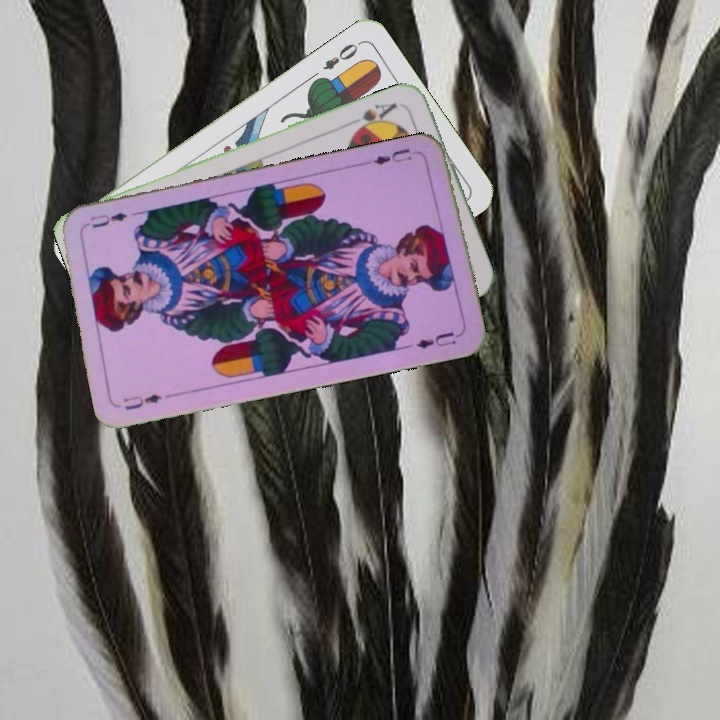EO: (318, 37, 364, 73)
EU: (364, 144, 422, 167), (119, 390, 164, 413)
SA: (348, 98, 400, 135)
